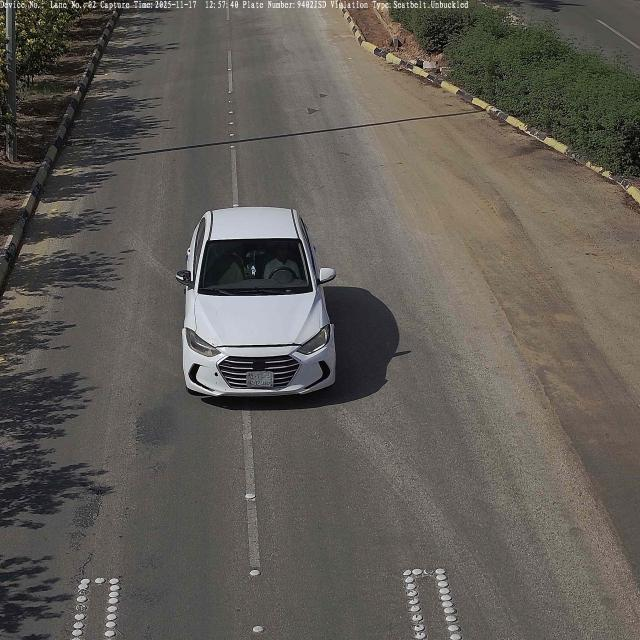person_without_seatbelt: (264, 245, 298, 283)
